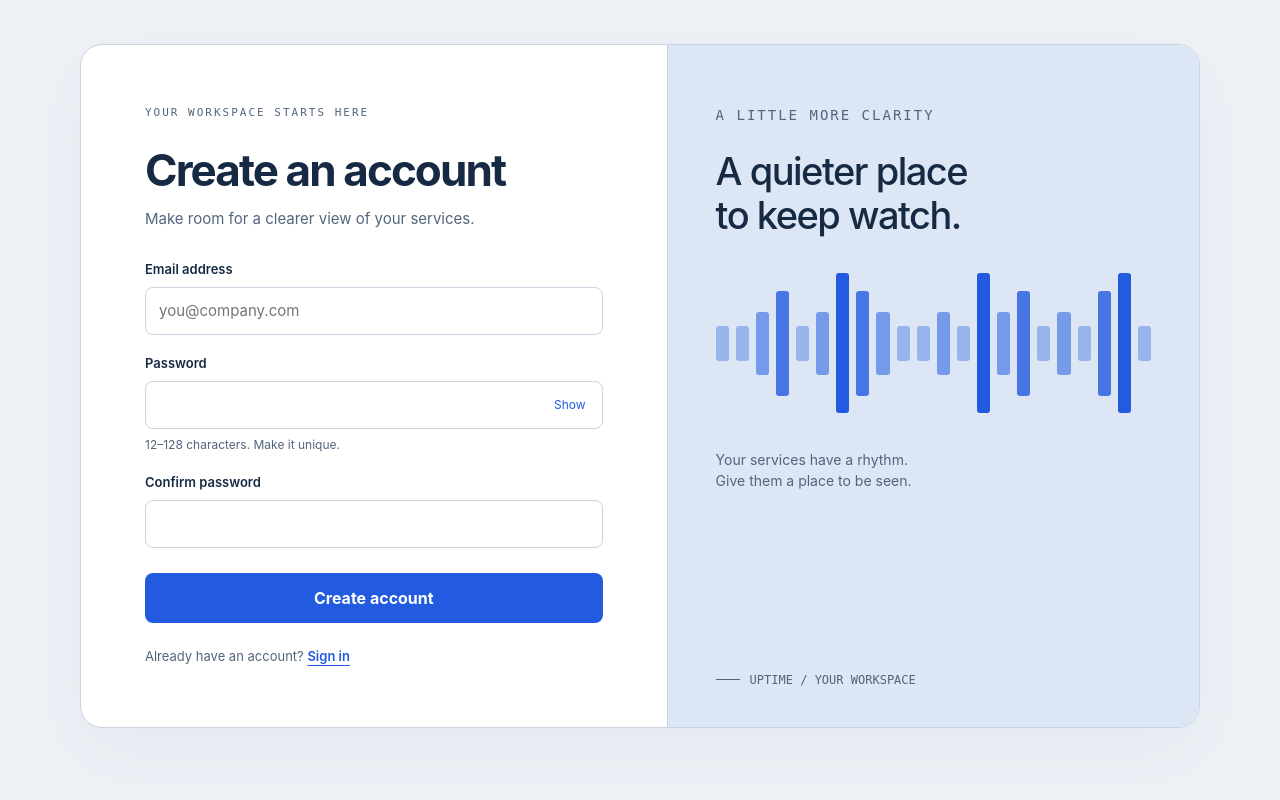
Test case: validates fields and confirmation accessibly
Click the button "Create account": (374, 598) [145,573,603,623]
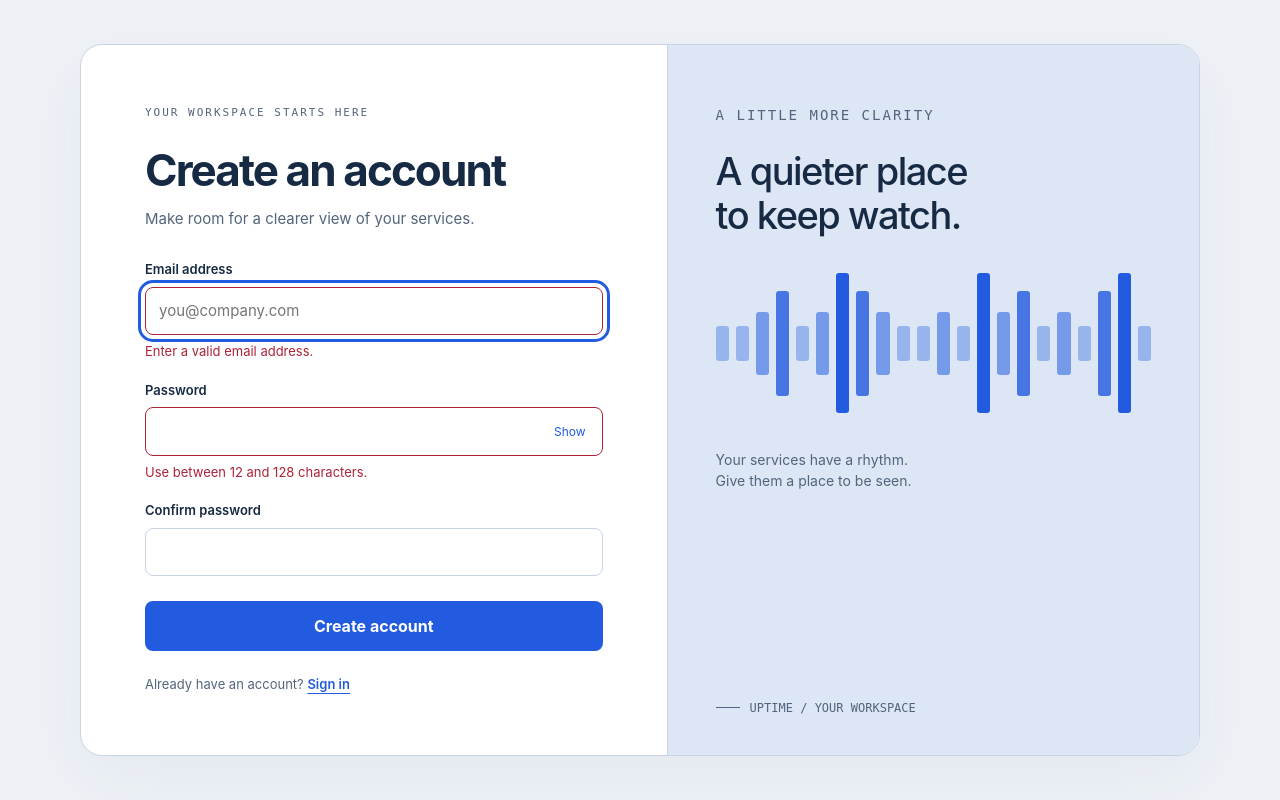
Check: the text "Enter a valid email address." is shown, box [145,343,313,359]
In the field labelled "Email address": (374, 311) [145,287,603,335], type "person@example.com"
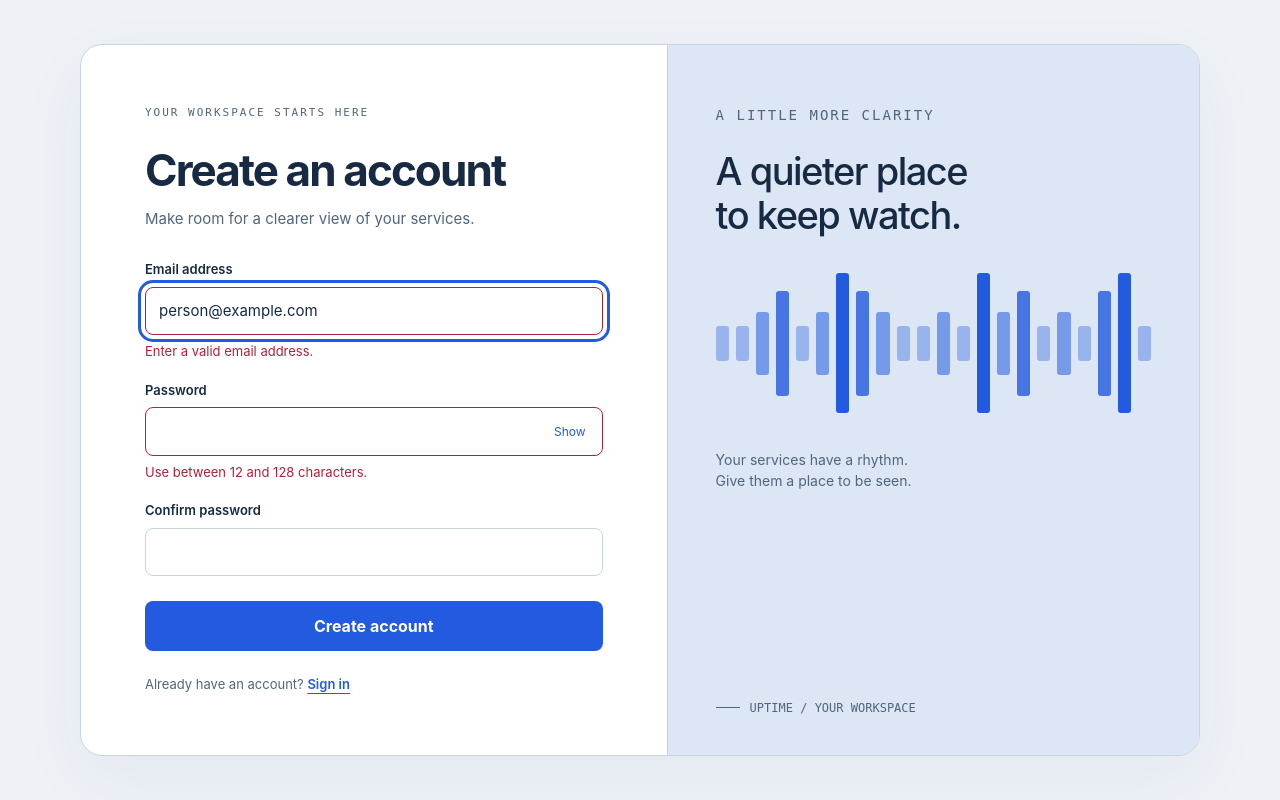
In the password field labelled "Password": (374, 432) [145,407,603,456], type "correct long password"
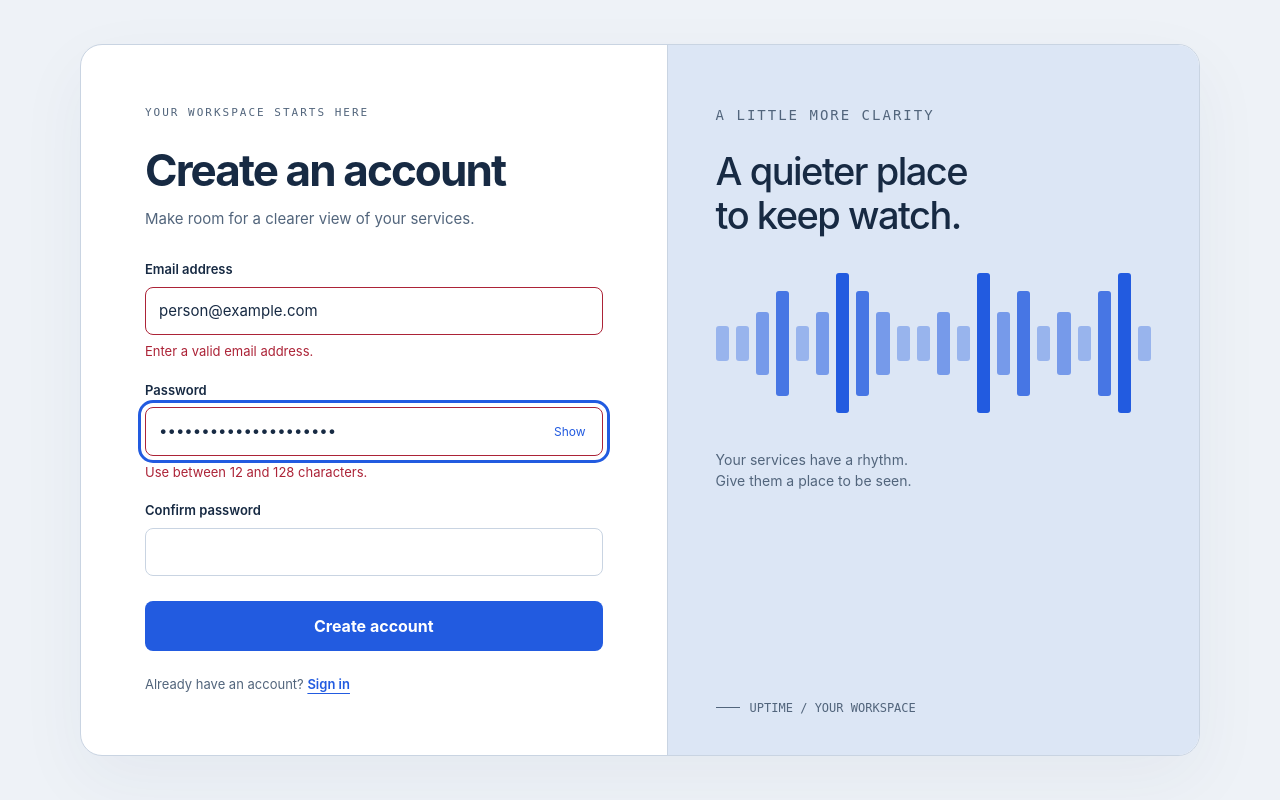
In the password field labelled "Confirm password": (374, 552) [145,528,603,576], type "different"
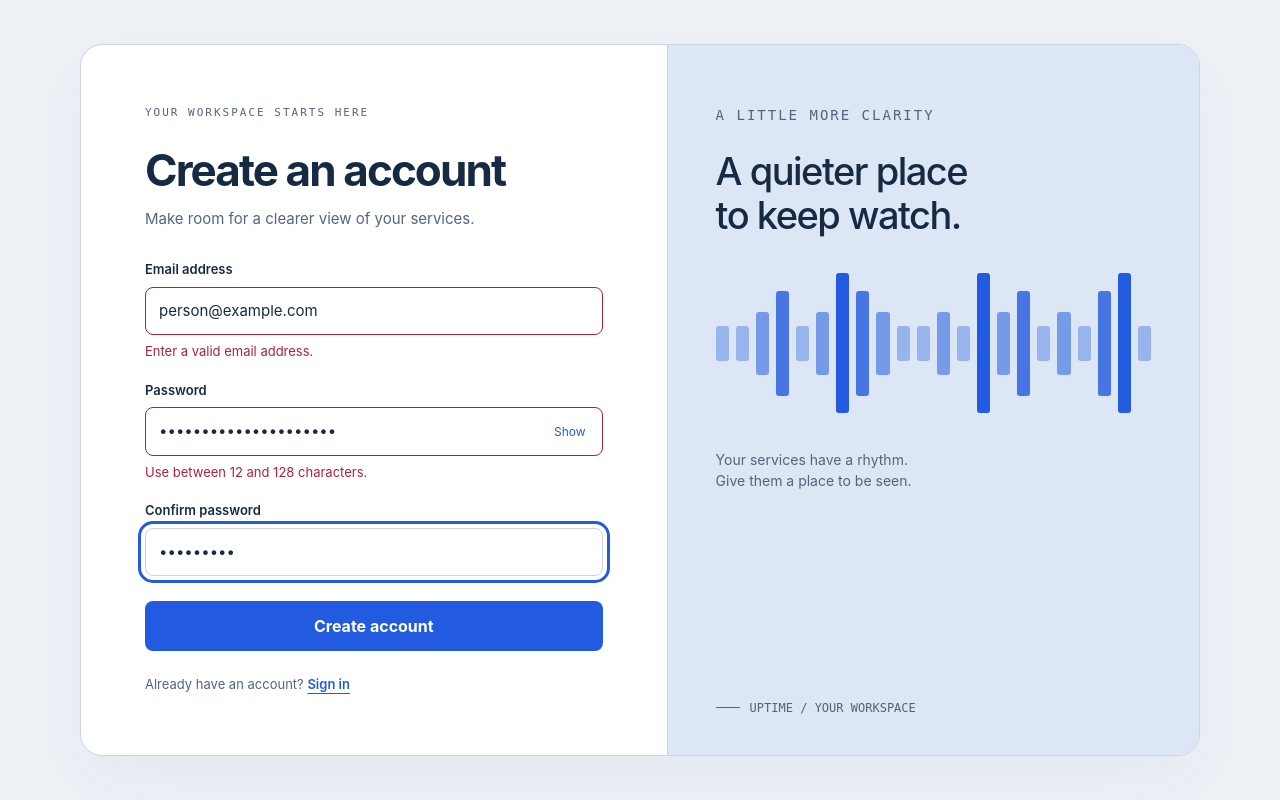
Click the button "Create account": (374, 626) [145,601,603,651]
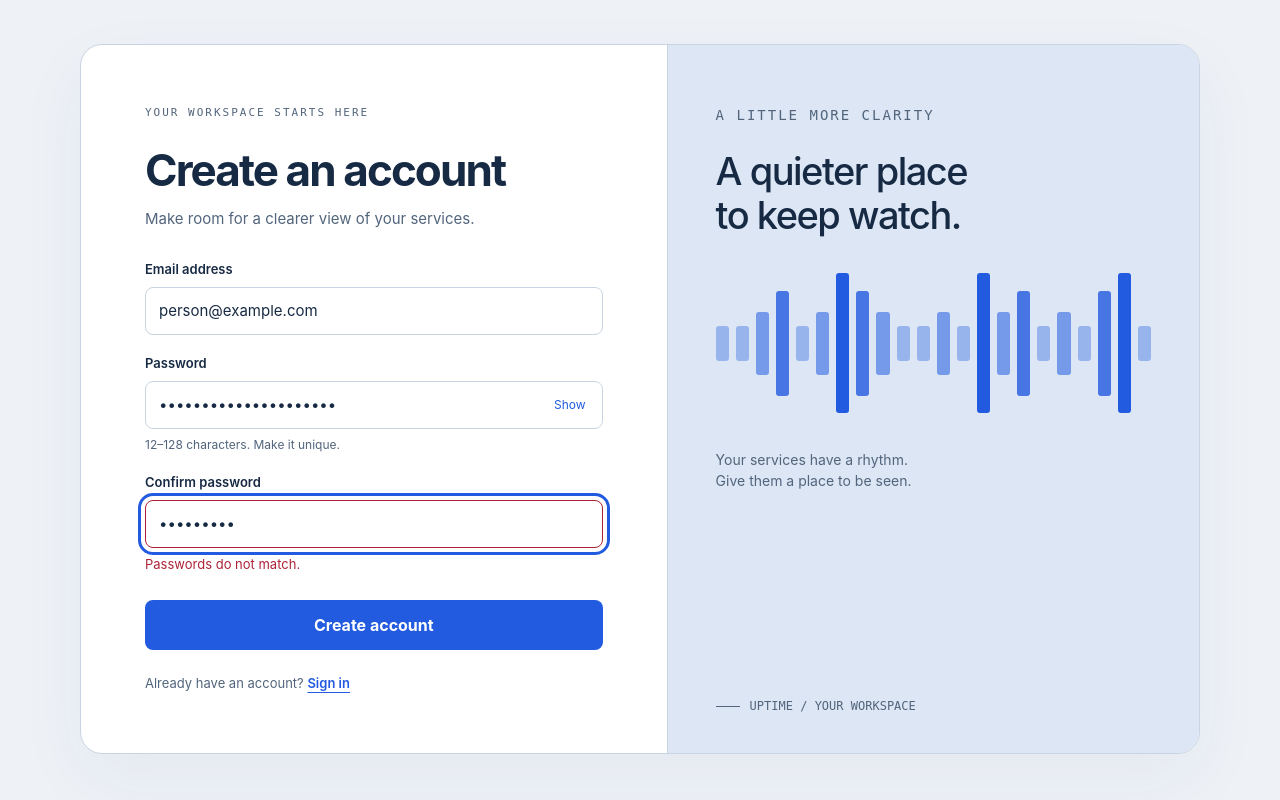
Check: the text "Passwords do not match." is shown, box [145,556,300,572]
